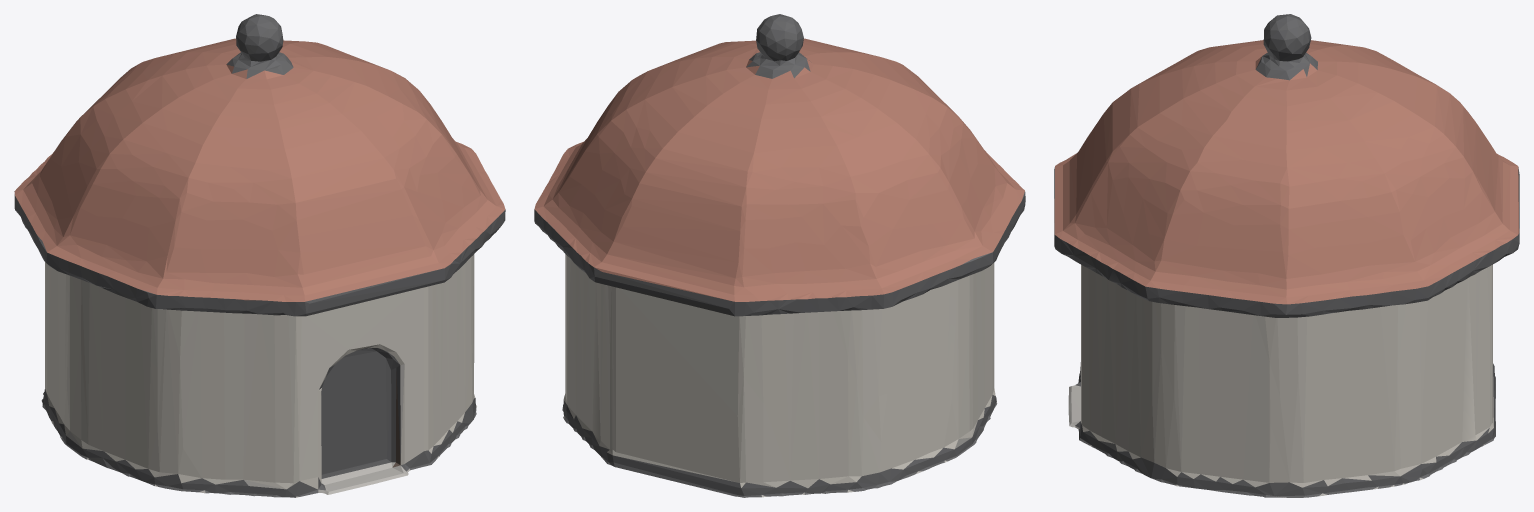
3 renders of one model, left to right at view 1: azimuth 30°, elevation 25°; view 2: azimuth 150°, elevation 25°; view 3: azimuth 270°, elevation 25°, orthographic.
Visible parts, largest first — view 1: geometry_0; view 2: geometry_0; view 3: geometry_0.
Boxes of the visible parts, box(x1,y1,x2,y2) form: geometry_0: box(14, 14, 505, 497); geometry_0: box(534, 14, 1025, 497); geometry_0: box(1054, 14, 1519, 497).
Size of the model in its own units: 1 by 0.8763 by 0.9466.
